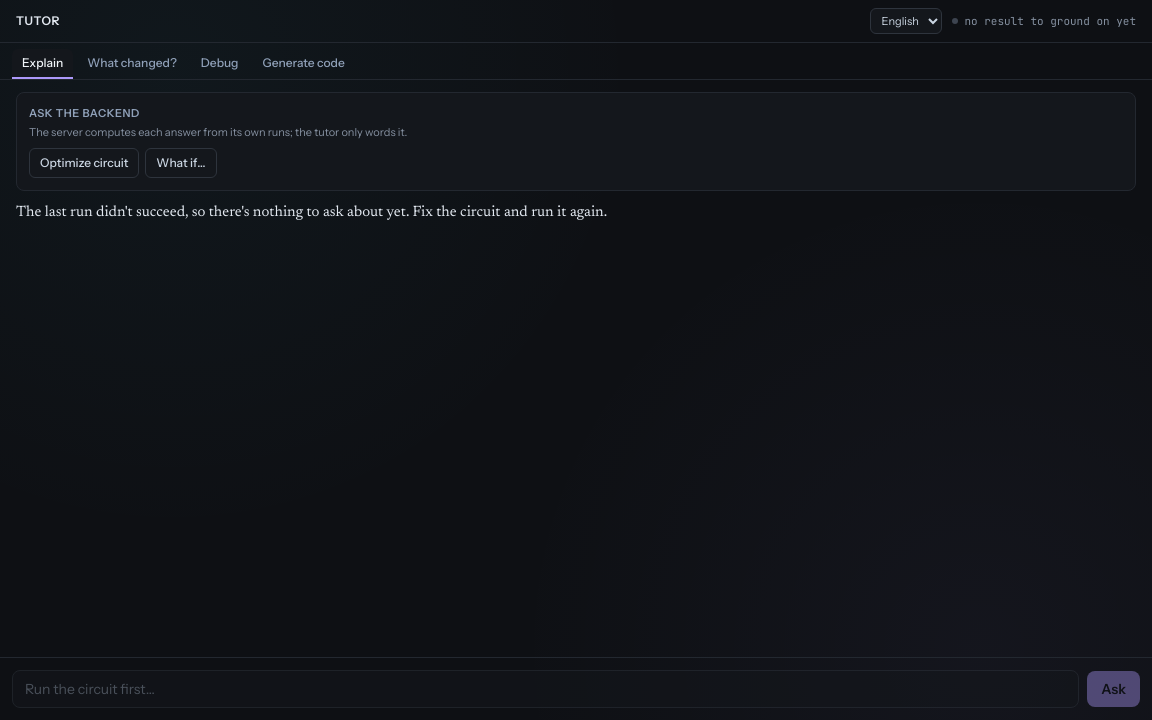
Optimize circuit › asks with the circuit only and shows an explicit no-improvement result
The width and height of the screenshot is (1152, 720).
Click the button "Optimize circuit".
click(84, 163)  # box [29,148,139,178]
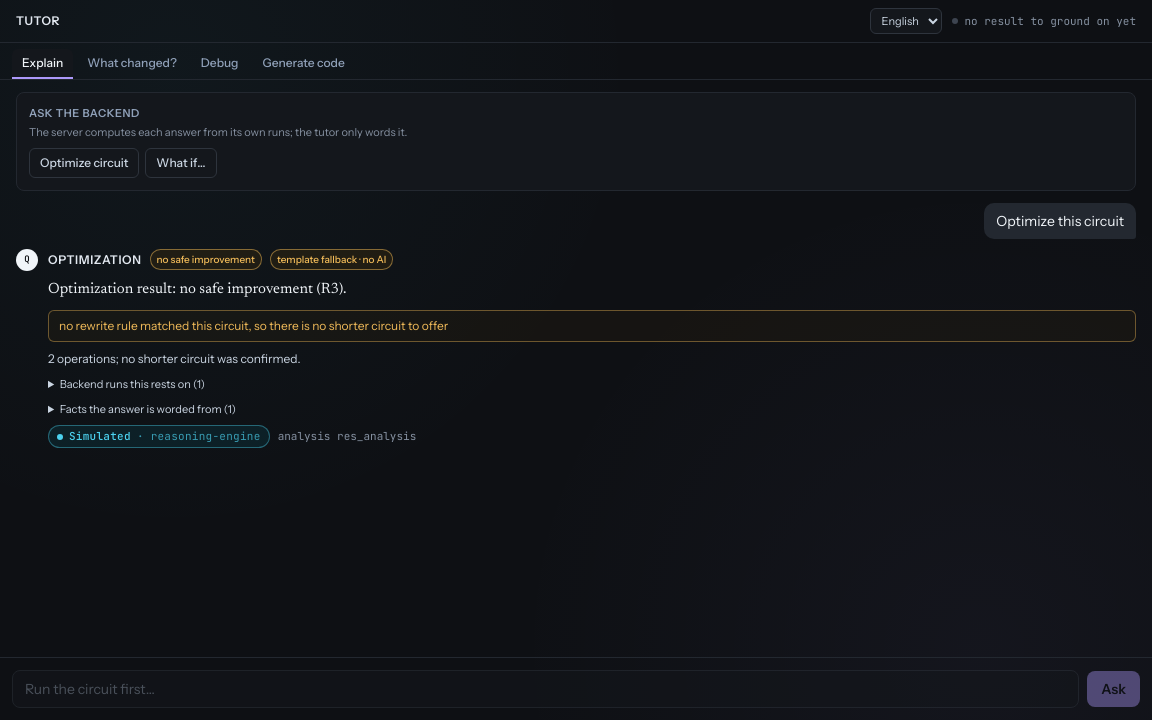
expect the message with test id "reasoning-reason" shows "no rewrite rule matched": met, box [59,318,448,333]
expect the text "Optimize this circuit" is shown: met, box [984,203,1136,239]
